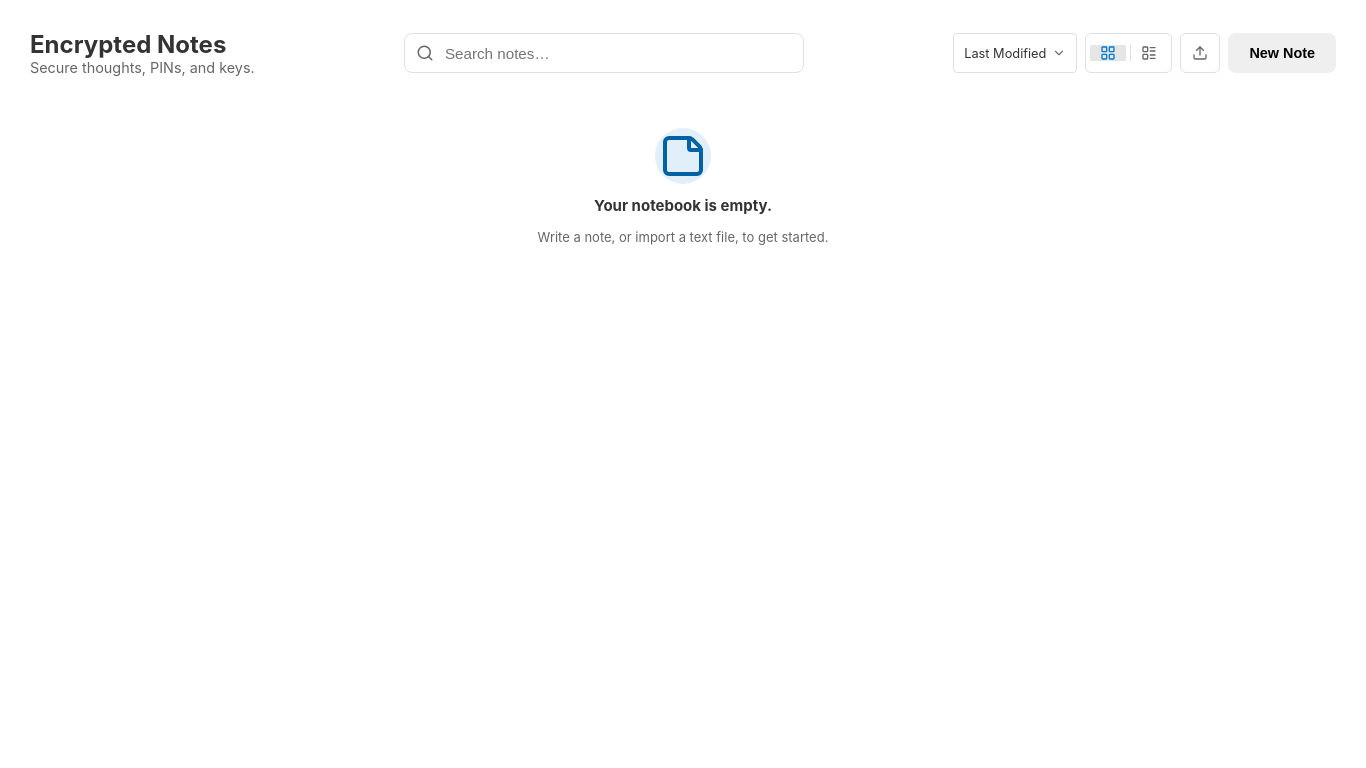
Test: NotesView - writing notes › saves with Ctrl+S
The width and height of the screenshot is (1366, 768).
Click the button "New Note" at (1282,53), box [1228,33,1336,73]
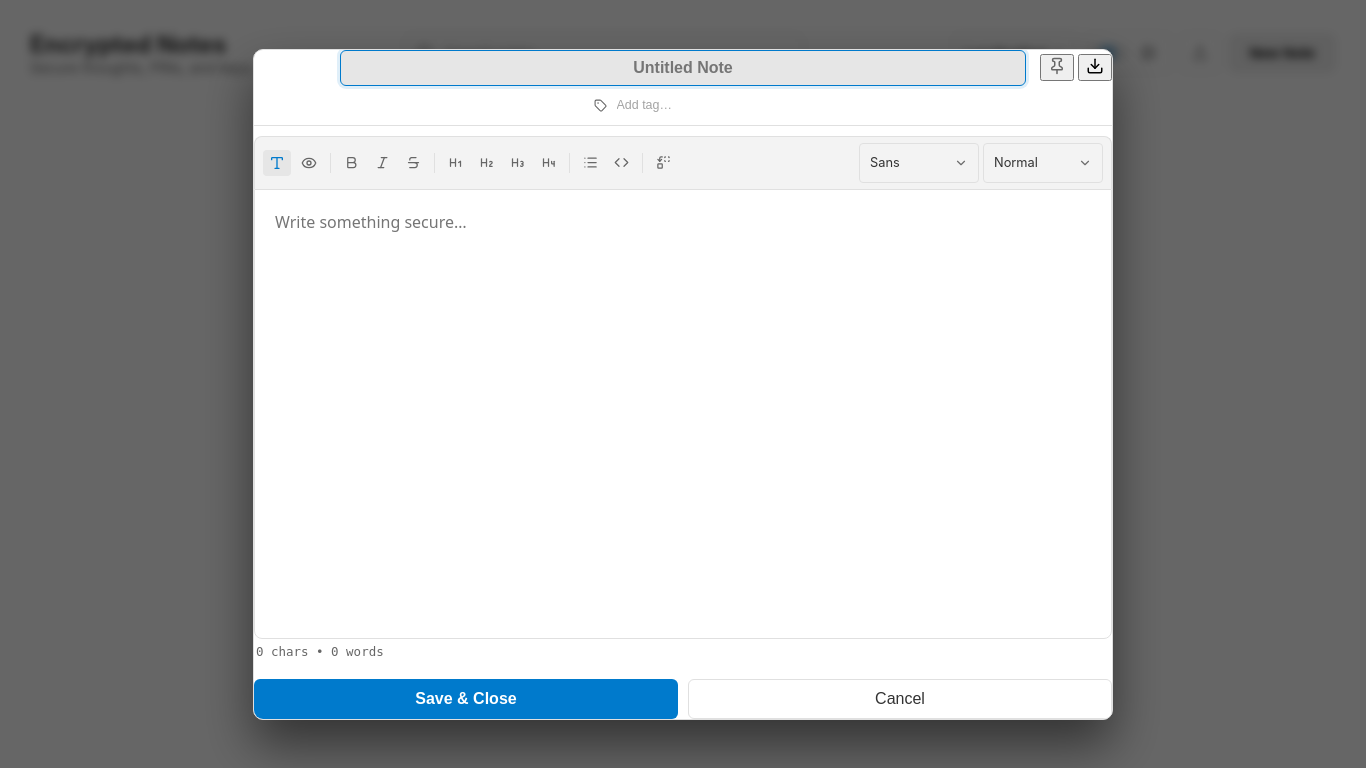
Type "Quick" into the field with placeholder "Untitled Note" at (683,68), box [340,50,1026,86]
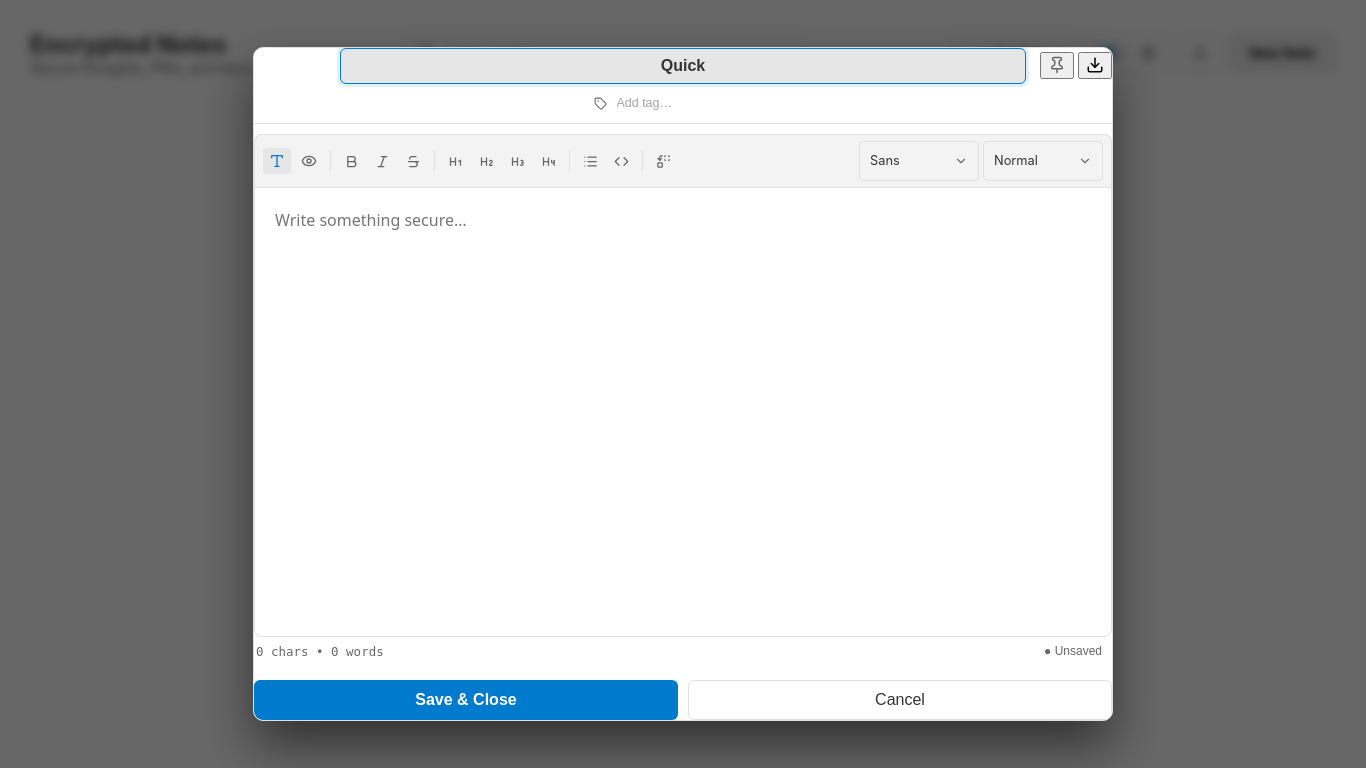
Press s
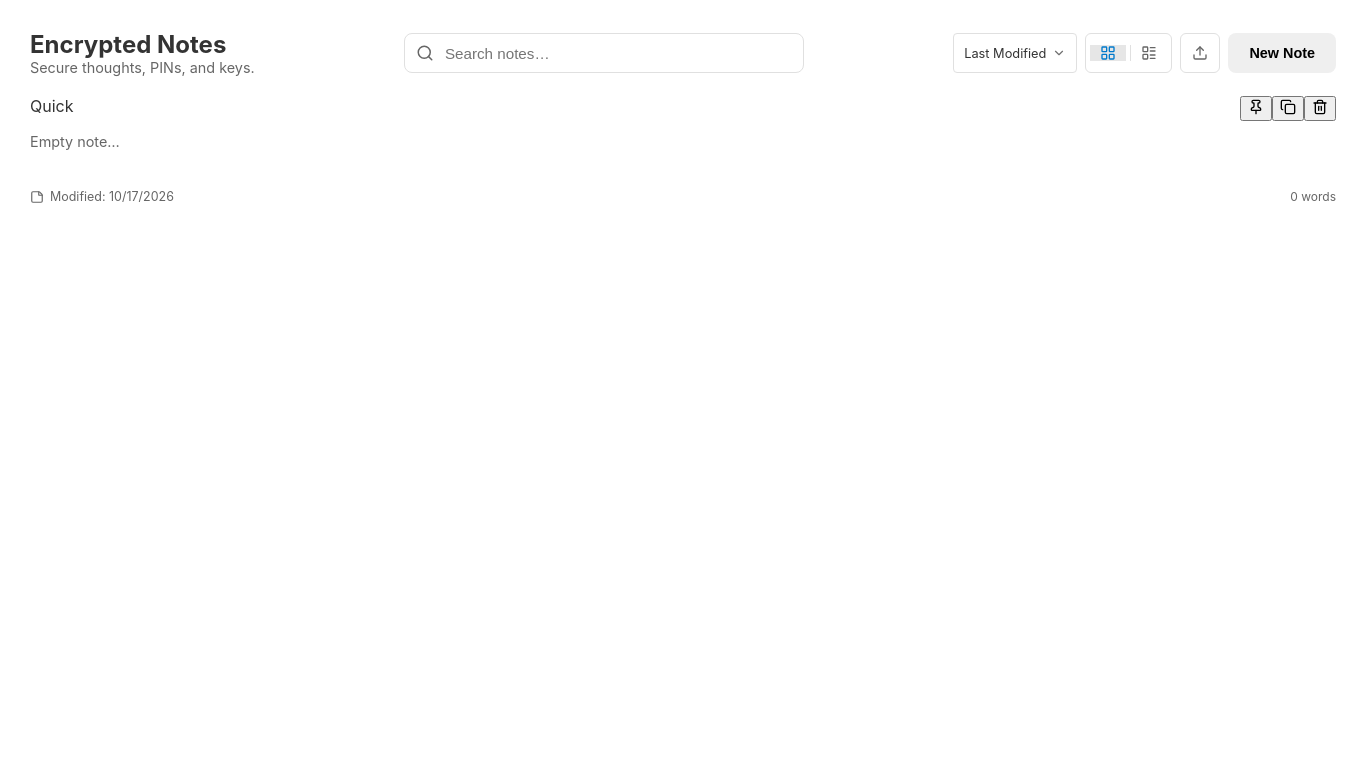
Result: the text "Quick" is shown at [30,96,74,116]
